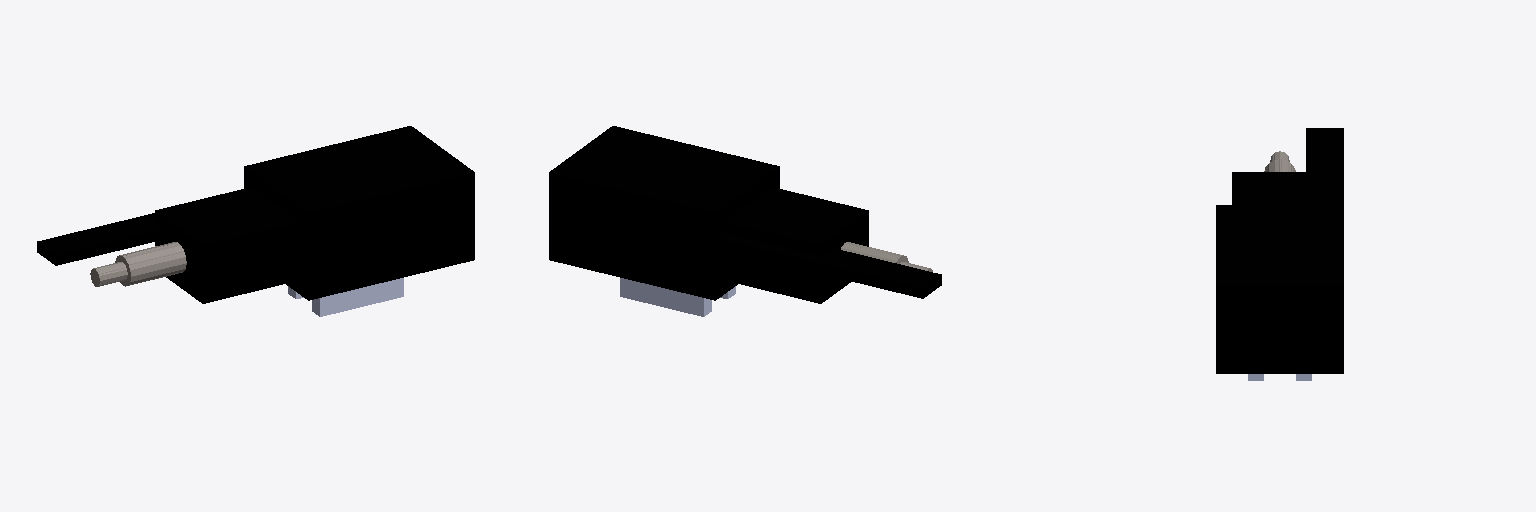
The model's file is Riveting_Floating_X2.obj.
3 views of the same model, side by side, from view 1: azimuth 30°, elevation 25°; view 2: azimuth 150°, elevation 25°; view 3: azimuth 270°, elevation 25° (orthographic).
Visible parts, largest first — view 1: _[number redacted], Estrusione_Estrusione18, Estrusione_Estrusione19, Estrusione_Estrusione20; view 2: _[number redacted], Estrusione_Estrusione18, Estrusione_Estrusione24, Estrusione_Estrusione19; view 3: _[number redacted], Estrusione_Estrusione18, Estrusione_Estrusione24.
Part boxes in pixels (x1,y1,x2,y2): _[number redacted]: (37,126,474,316); Estrusione_Estrusione18: (155,126,474,302); Estrusione_Estrusione19: (115,242,186,286); Estrusione_Estrusione20: (90,262,127,286); _[number redacted]: (549,126,941,316); Estrusione_Estrusione18: (549,126,868,302); Estrusione_Estrusione24: (671,228,941,298); Estrusione_Estrusione19: (841,242,908,263); _[number redacted]: (1216,128,1343,380); Estrusione_Estrusione18: (1216,172,1343,373); Estrusione_Estrusione24: (1306,128,1343,204).
Bounding box in the file's own units: 134 × 42 × 40.